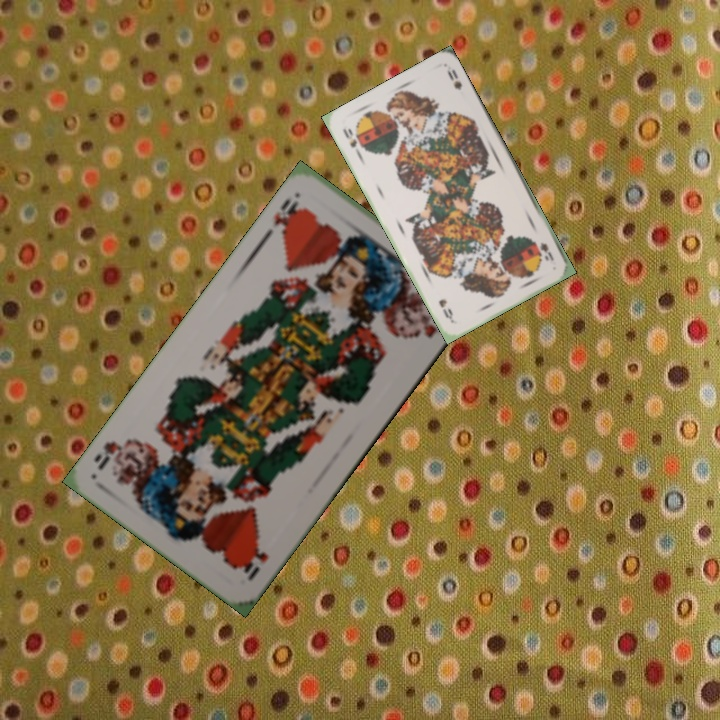HO: (261, 194, 307, 241), (239, 543, 272, 584)
SO: (339, 124, 364, 159), (536, 238, 557, 263)
